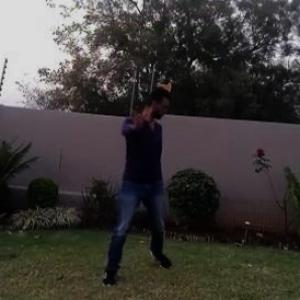takeoff-hand: (121, 98, 148, 132)
